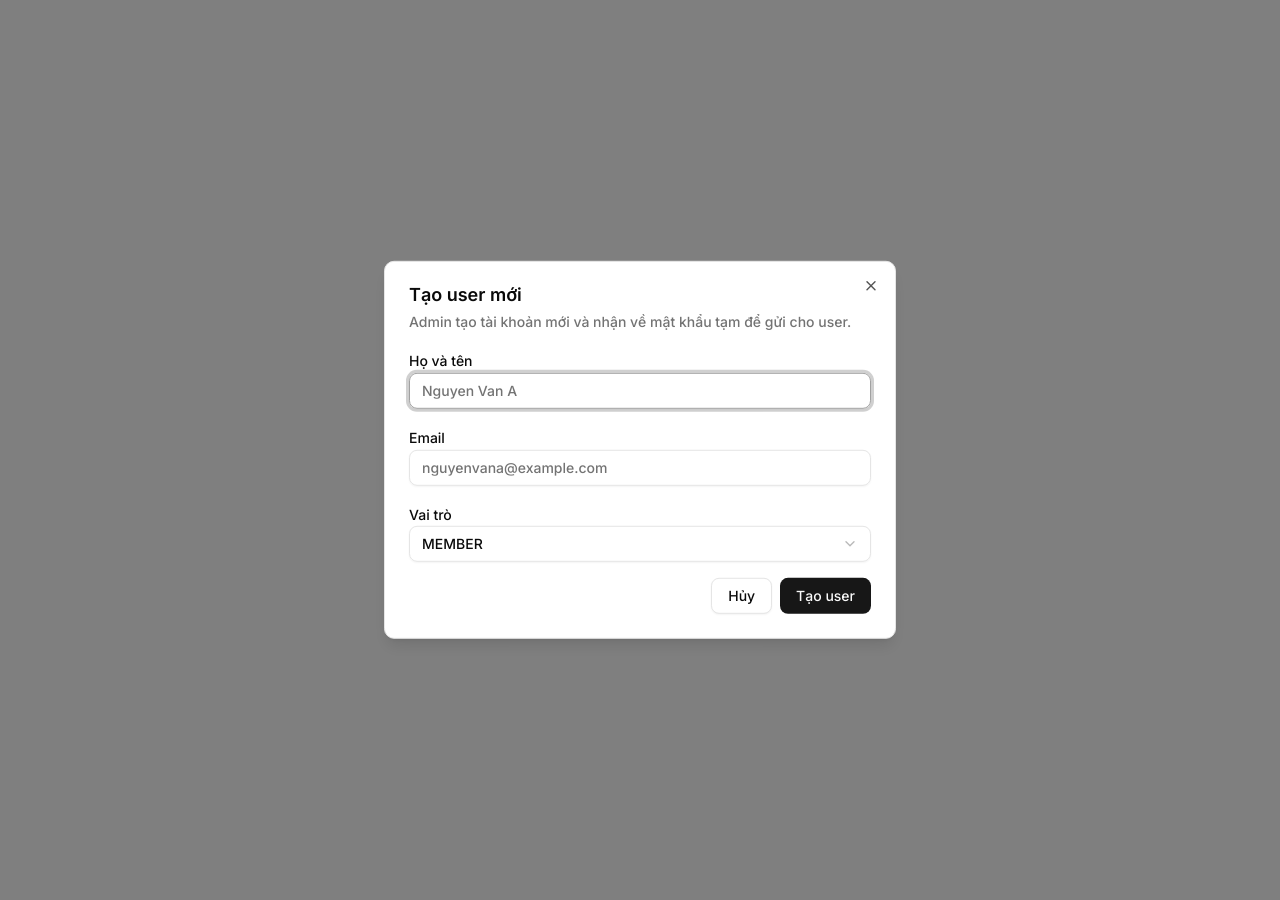
it: <UserCreateDialog /> › shows validation errors and does not submit an empty form
Click the button "Tạo user": [826, 596] box [780, 578, 871, 614]
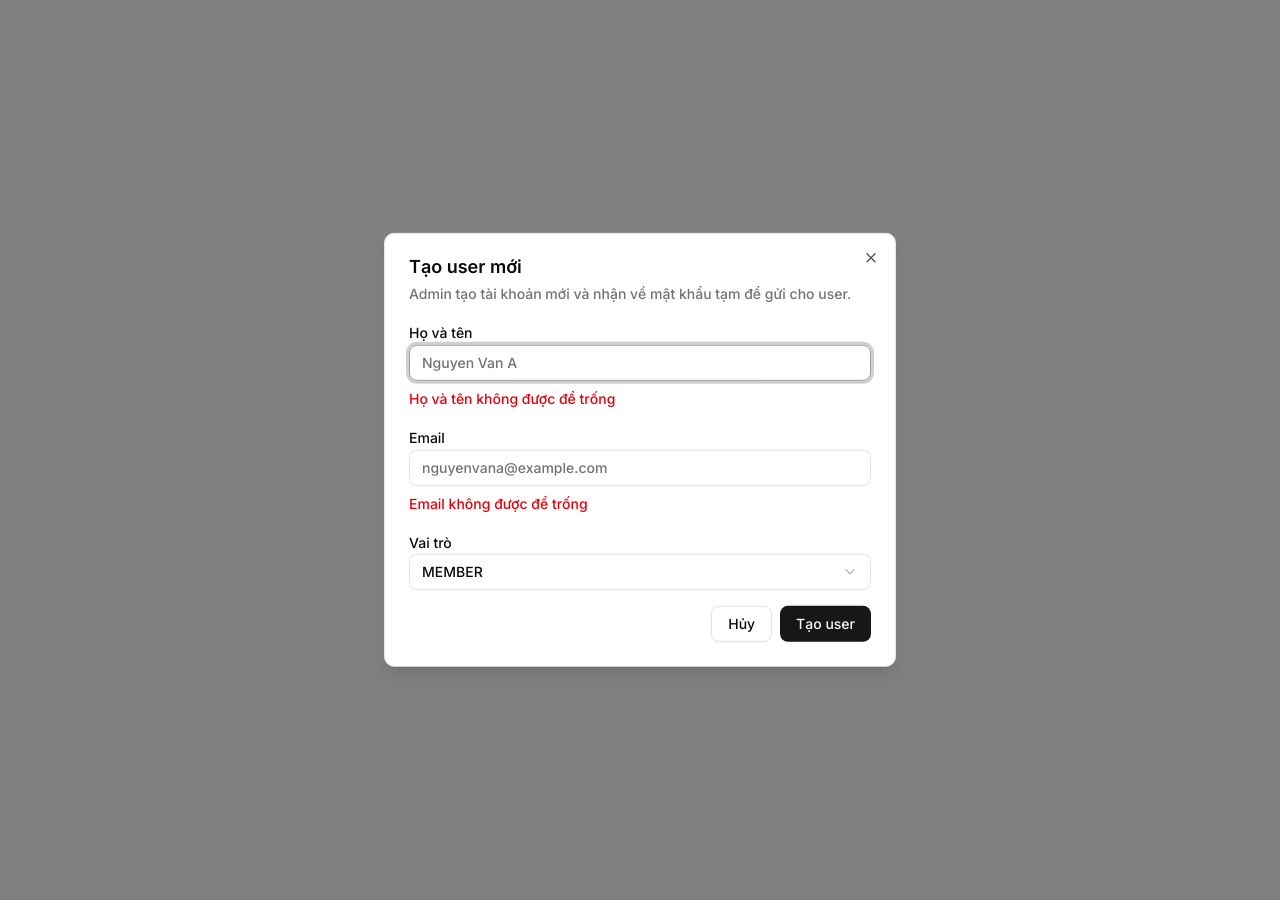
Expected: the text "Họ và tên không được để trống" is shown, [409, 390, 615, 407]
